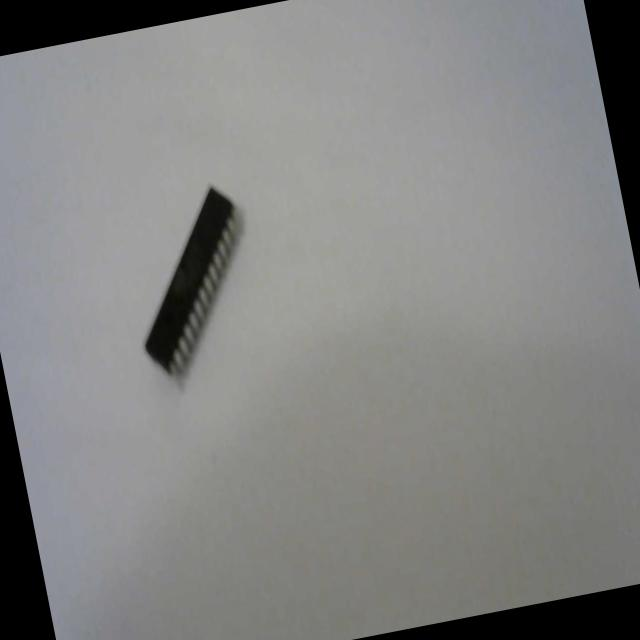atmega: (113, 177, 273, 390)
